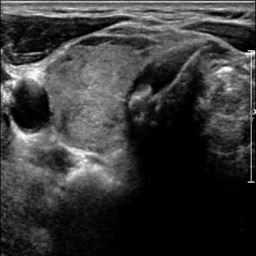mass: (58, 88, 115, 149)
